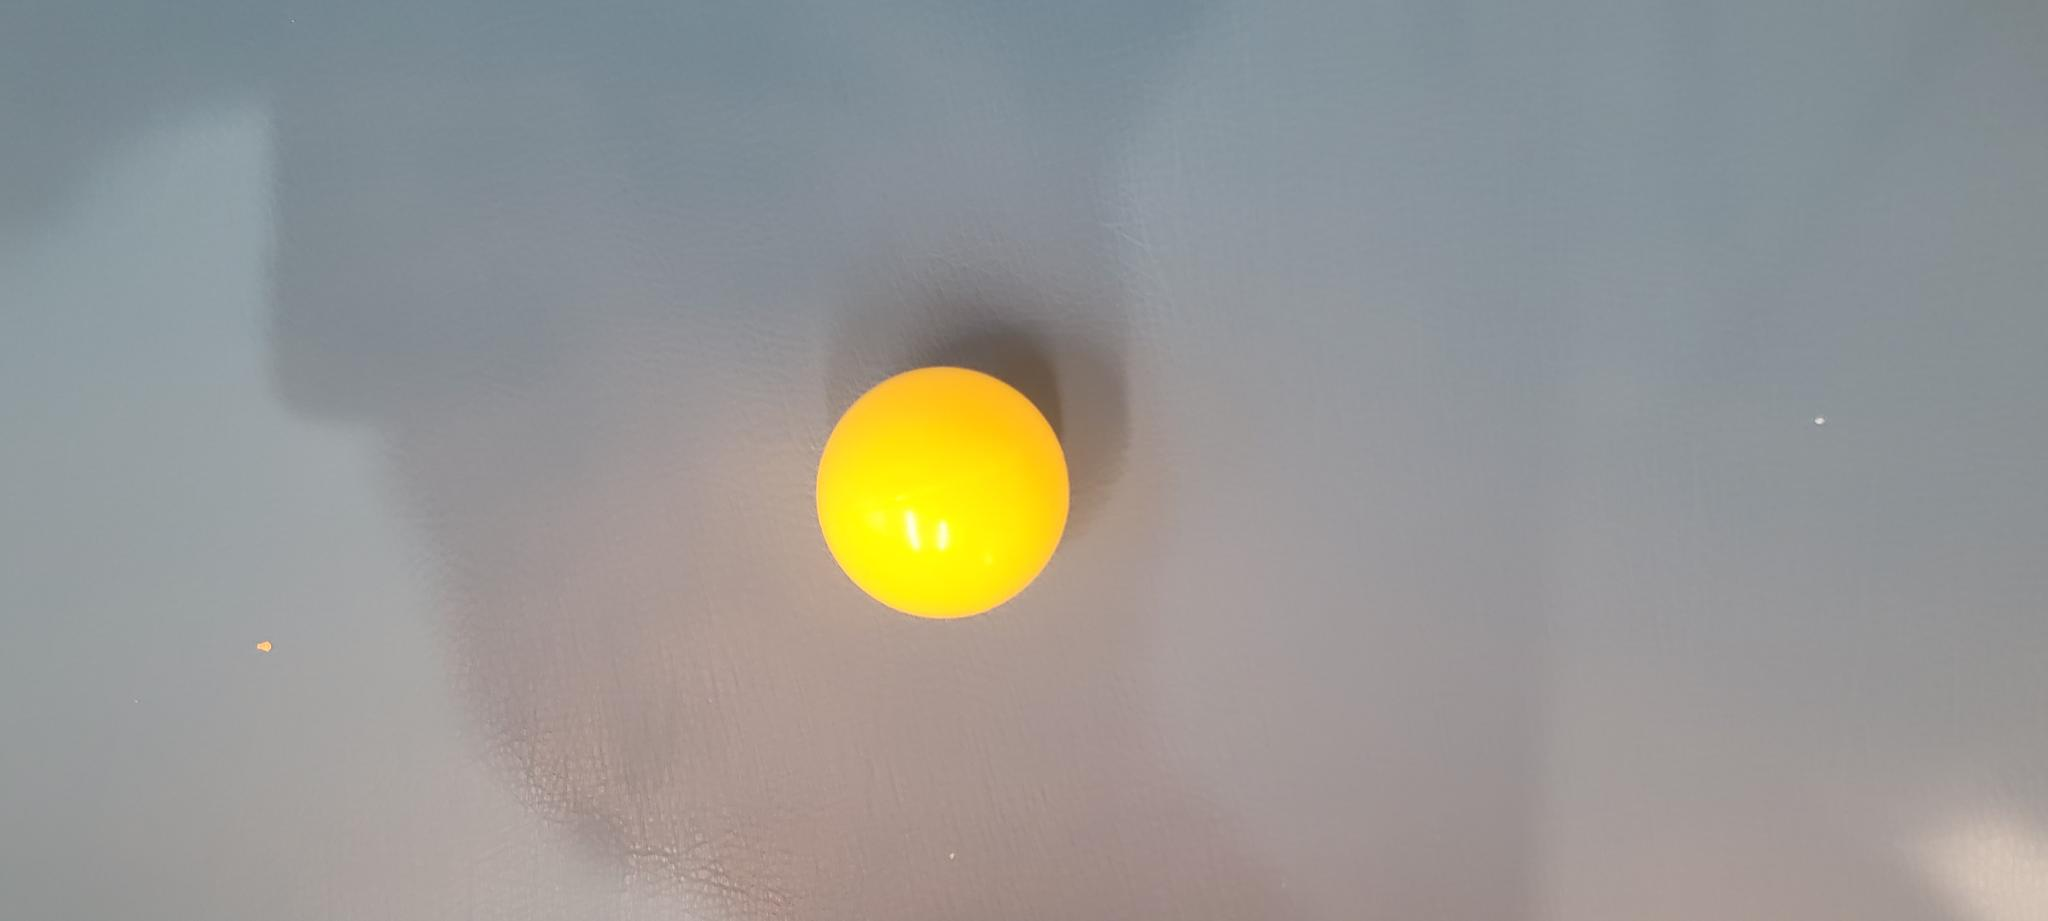Yellow-Ball: (306, 815, 556, 921)
